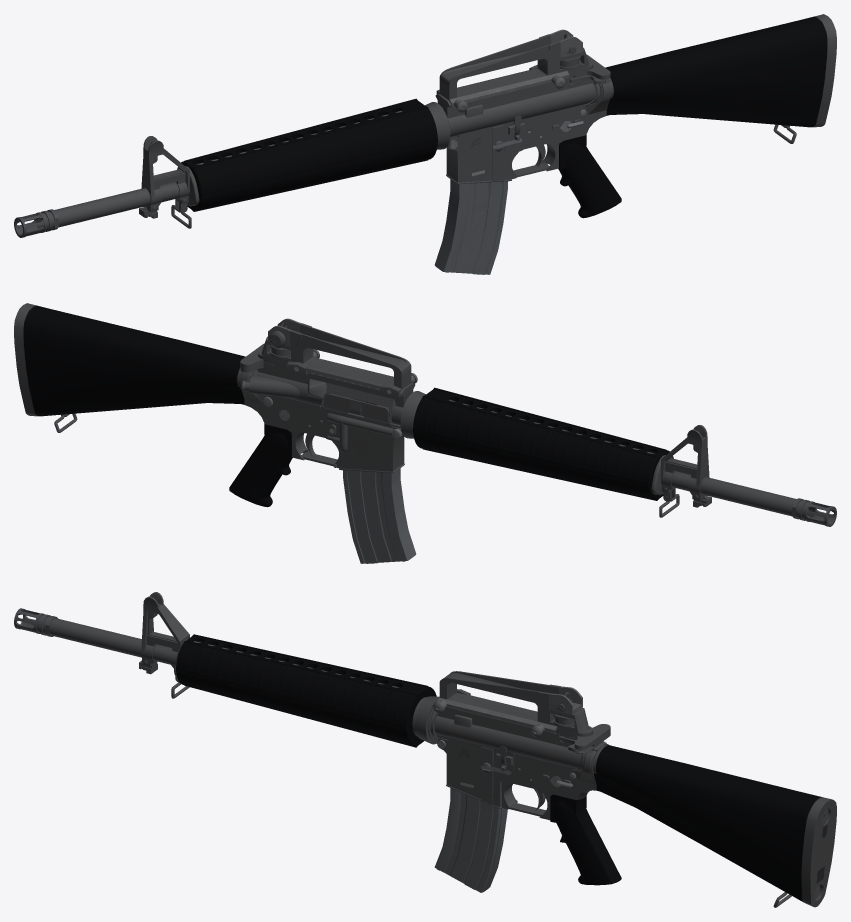
3 renders of one model, top to bottom at view 1: azimuth 30°, elevation 25°; view 2: azimuth 150°, elevation 25°; view 3: azimuth 330°, elevation 25°, orthographic.
Parts seen in each view (by area): view 1: m16a4; view 2: m16a4; view 3: m16a4.
Part boxes in pixels (x1=…): m16a4: x1=14, y1=14, x2=836, y2=274; m16a4: x1=14, y1=303, x2=836, y2=563; m16a4: x1=14, y1=592, x2=836, y2=907.
Bounding box in the file's own units: 0.9982 × 0.2575 × 0.067.
3 materials, 3 textured.
